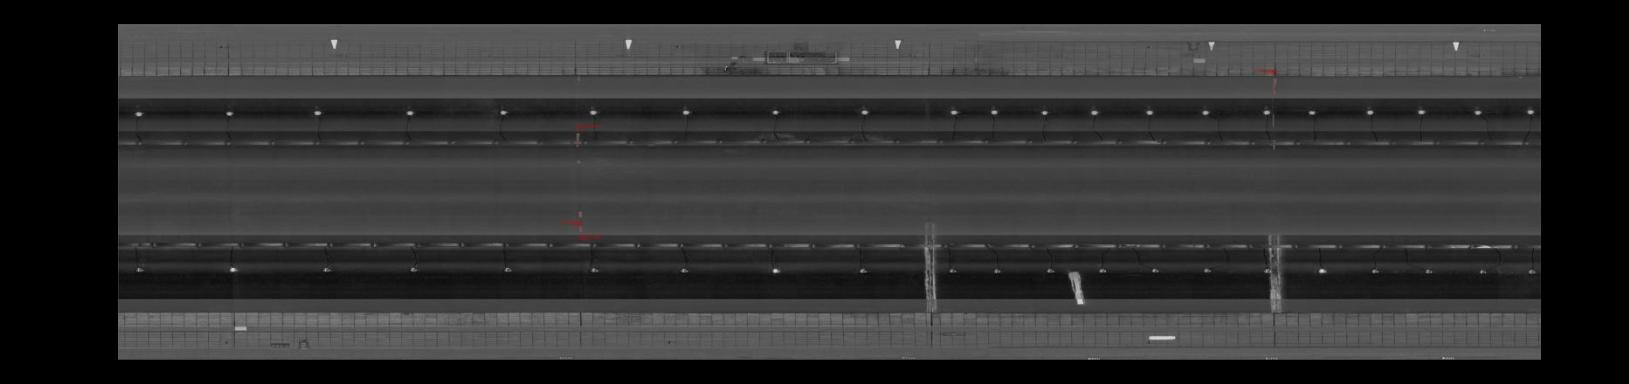light: (852, 106, 875, 118), (765, 263, 785, 276), (498, 263, 518, 275), (767, 105, 785, 118), (318, 263, 336, 276), (584, 106, 603, 118), (131, 262, 148, 275), (224, 262, 241, 275), (495, 106, 512, 118), (677, 106, 695, 118), (675, 264, 693, 276), (1196, 106, 1214, 117), (1523, 264, 1537, 279), (401, 107, 418, 119), (1146, 264, 1163, 276), (1085, 106, 1102, 117), (1476, 263, 1491, 276), (1469, 105, 1485, 117), (405, 263, 422, 274), (1361, 106, 1378, 117), (309, 108, 326, 118), (853, 266, 871, 276), (1036, 106, 1051, 117), (1314, 264, 1330, 275), (218, 109, 237, 118), (130, 109, 146, 119), (1412, 106, 1428, 116), (1522, 106, 1537, 117), (1258, 105, 1273, 116), (586, 266, 602, 276), (946, 106, 962, 116), (986, 107, 1002, 117), (1199, 266, 1214, 276), (1367, 265, 1383, 275), (1141, 107, 1156, 117), (1094, 266, 1111, 275), (1044, 265, 1058, 276), (945, 266, 960, 276), (988, 266, 1003, 276), (1305, 107, 1319, 117), (1422, 266, 1436, 276), (1259, 266, 1272, 275)
